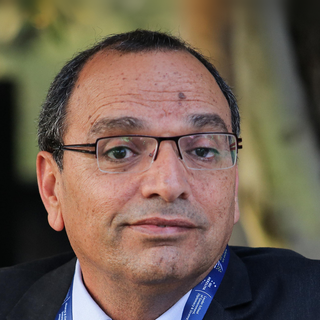eye: (92, 140, 141, 164), (181, 140, 223, 164)
